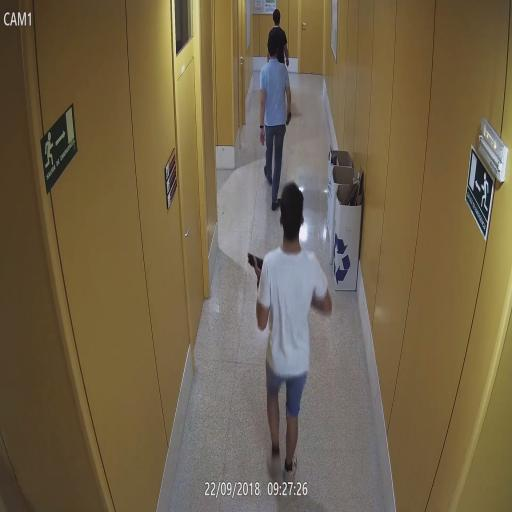Handgun: (284, 58, 288, 68)
